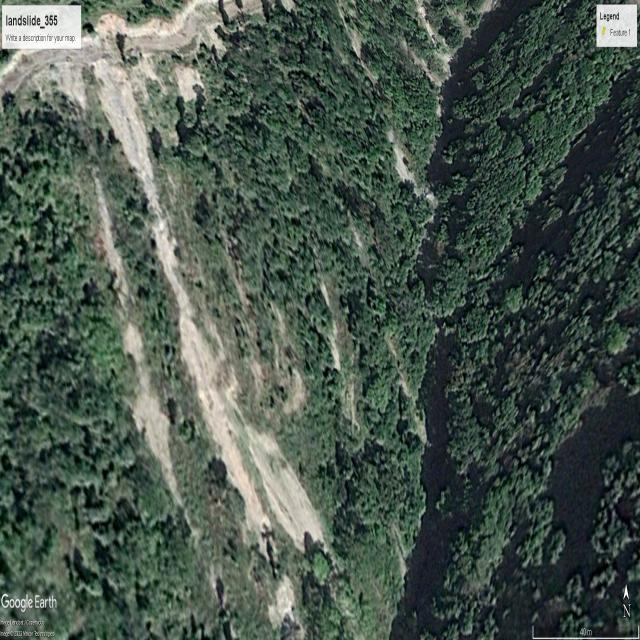Landslide: (76, 76, 262, 566)
